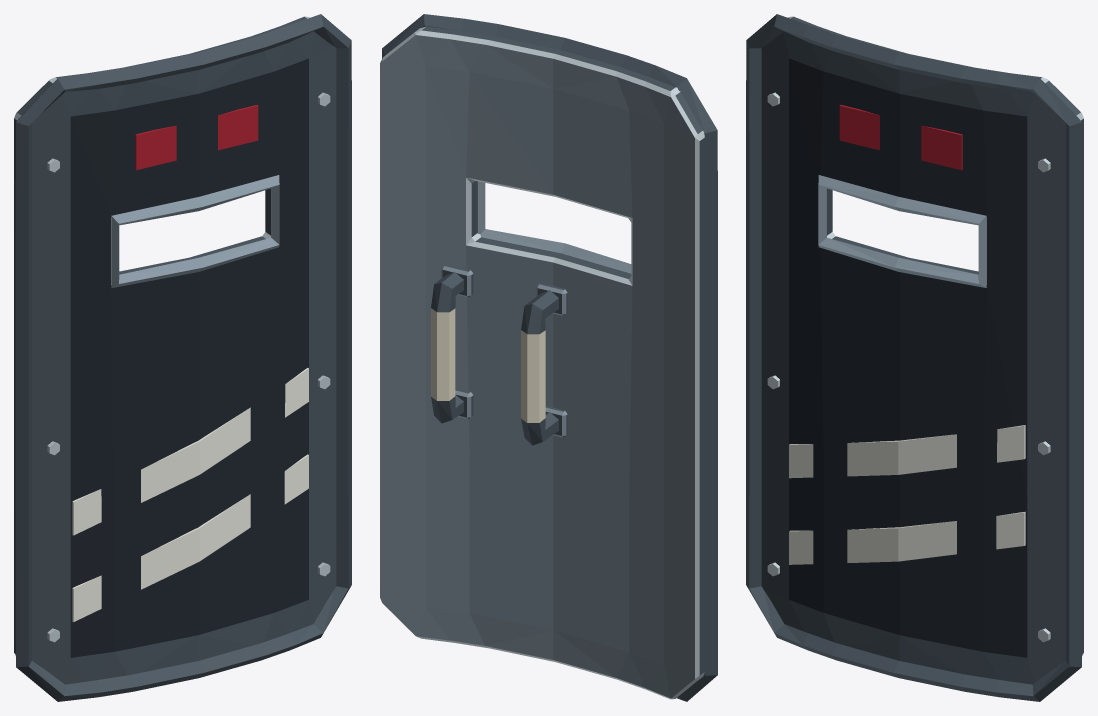
The model's file is riot_shield.fbx.
3 renders of one model, left to right at view 1: azimuth 30°, elevation 25°; view 2: azimuth 150°, elevation 25°; view 3: azimuth 330°, elevation 25°, orthographic.
Parts seen in each view (by area): view 1: riot_shield; view 2: riot_shield; view 3: riot_shield.
Boxes of the visible parts, x1=… form: riot_shield: x1=14, y1=14, x2=351, y2=701; riot_shield: x1=380, y1=14, x2=717, y2=701; riot_shield: x1=746, y1=14, x2=1083, y2=701.
Bounding box in the file's own units: 304 × 540 × 67.2.
